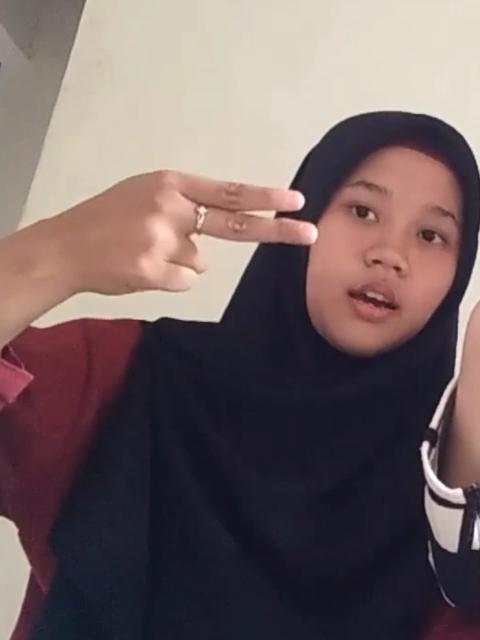H: (47, 165, 318, 309)
